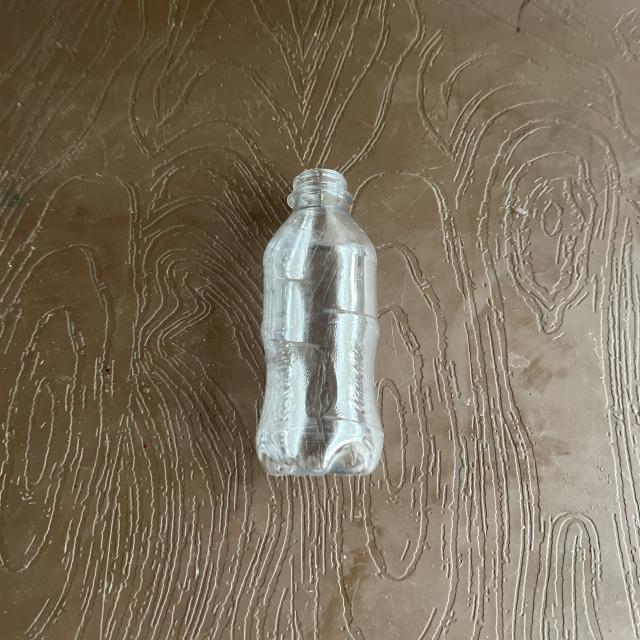PET_ClearBottle: (251, 168, 412, 474)
